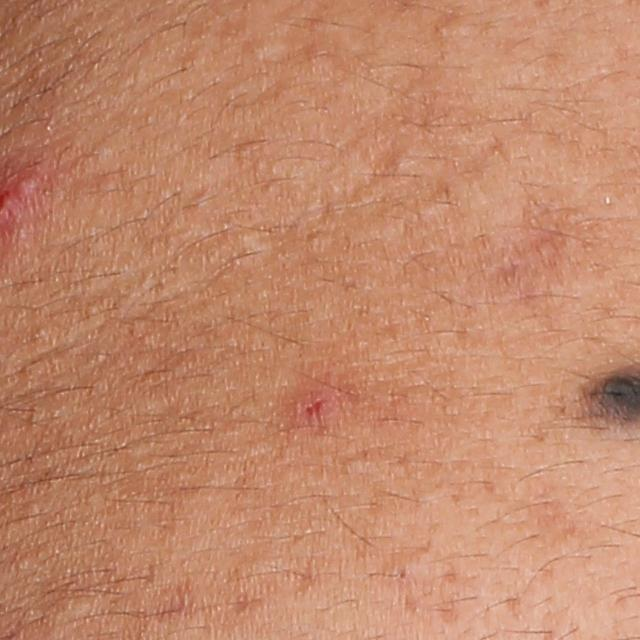comedo: (240, 35, 286, 61), (386, 143, 411, 179), (436, 16, 471, 39), (60, 596, 93, 620)
papule: (289, 376, 345, 431)
